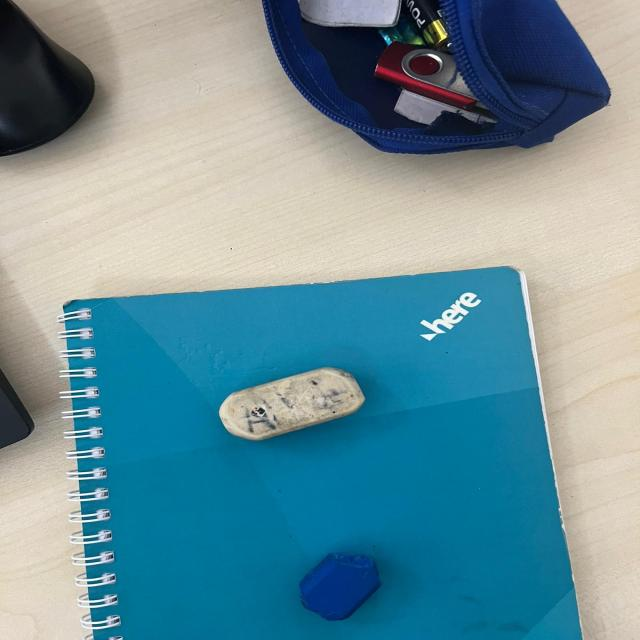eraser: (195, 362, 392, 443), (280, 532, 396, 624)
